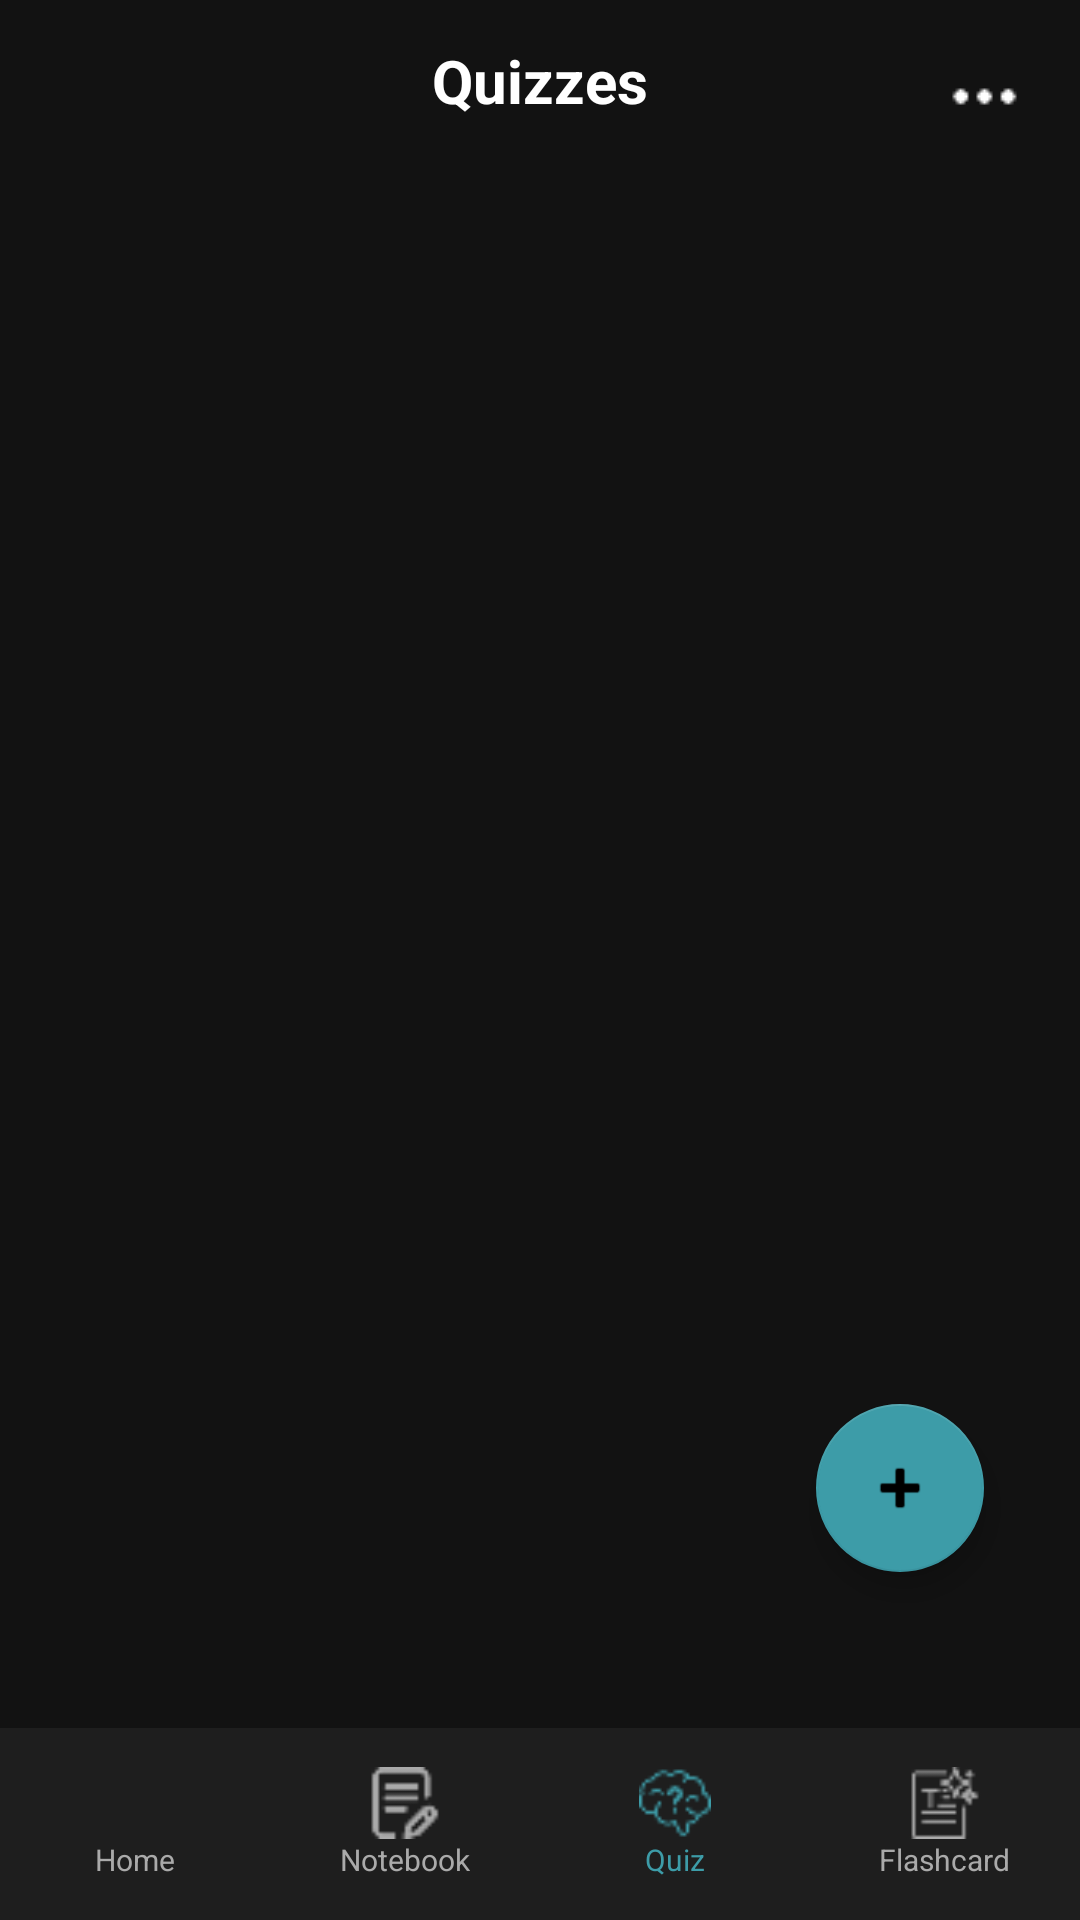

Icon click points for this 1080w x 1920h phone screenshot, format point (x, y):
add: point (900, 1488)
aisummarize: point (945, 1803)
dots: point (984, 96)
